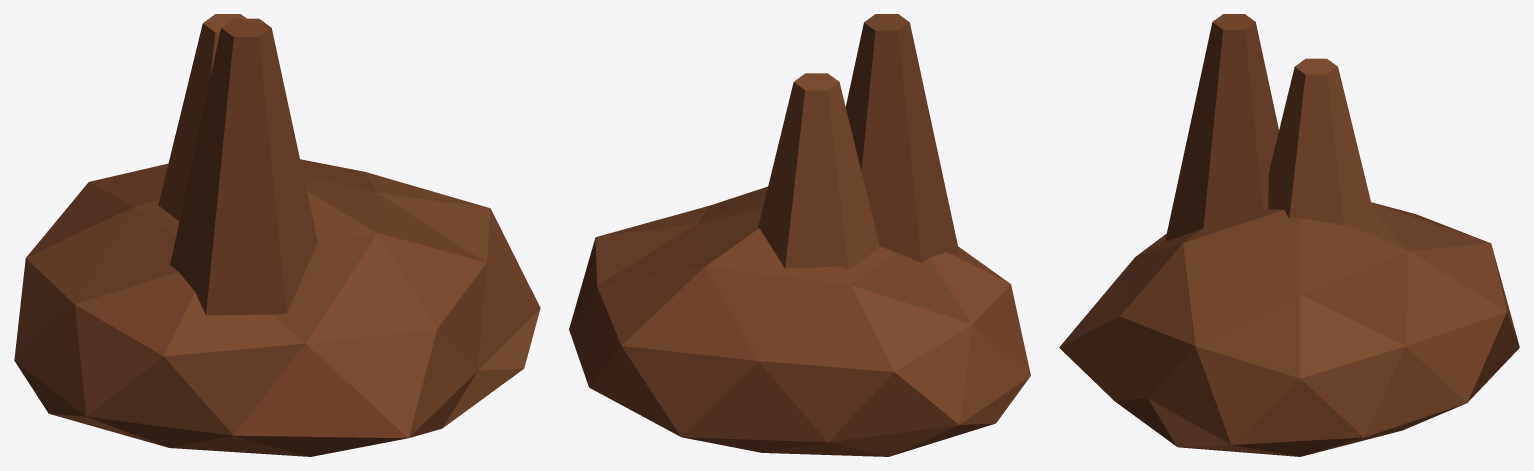
Rendered from env_termite_b.glb.
3 renders of one model, left to right at view 1: azimuth 30°, elevation 25°; view 2: azimuth 150°, elevation 25°; view 3: azimuth 270°, elevation 25°, orthographic. The views are drawn at different scales.
Visible parts, largest first — view 1: env_termite_b; view 2: env_termite_b; view 3: env_termite_b.
Part boxes in pixels (left/top/right/bottom): env_termite_b: left=14, top=14, right=540, bottom=456; env_termite_b: left=569, top=14, right=1030, bottom=456; env_termite_b: left=1059, top=14, right=1519, bottom=456.
Size of the model in its own units: 2.48 by 2.13 by 2.55.
